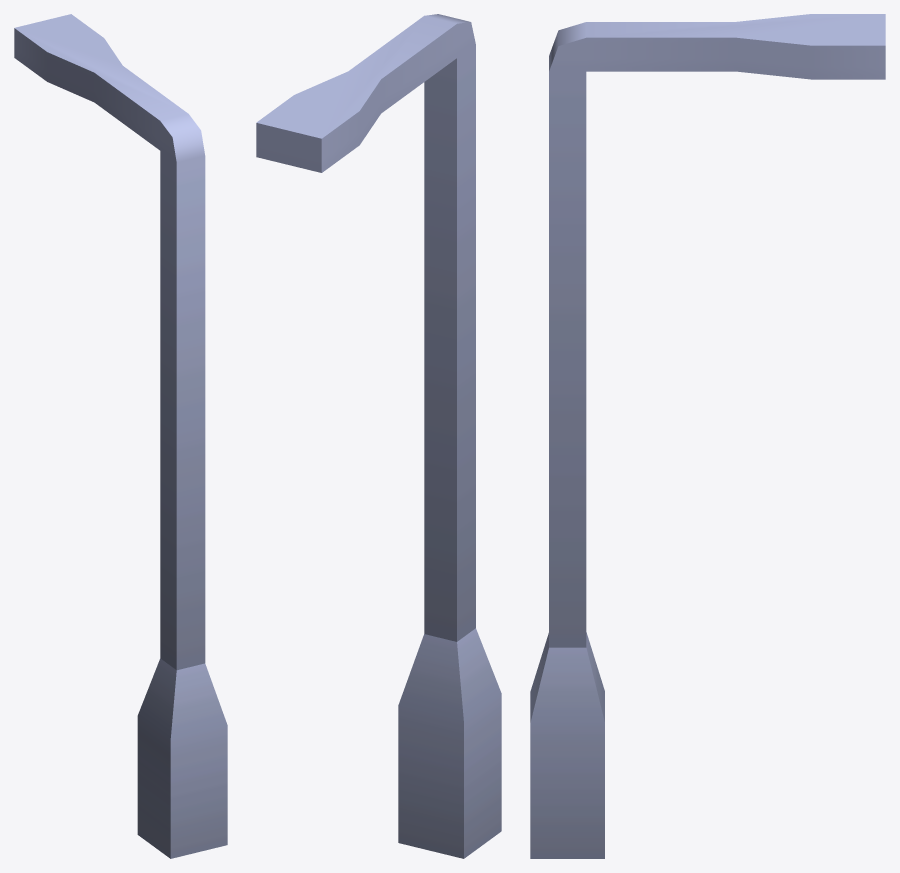
File: light-square.glb
The picture shows the model from 3 angles, left to right: view 1: azimuth 30°, elevation 25°; view 2: azimuth 150°, elevation 25°; view 3: azimuth 270°, elevation 25°; orthographic projection. The views are drawn at different scales.
Visible parts, largest first — view 1: light-square; view 2: light-square; view 3: light-square.
Part boxes in pixels (<box>): light-square: <box>14,14,227,858</box>; light-square: <box>256,14,501,858</box>; light-square: <box>530,14,885,858</box>.
Size of the model in its own units: 0.05 by 0.6 by 0.2375.
Materials: 1 (1 with a texture image).
